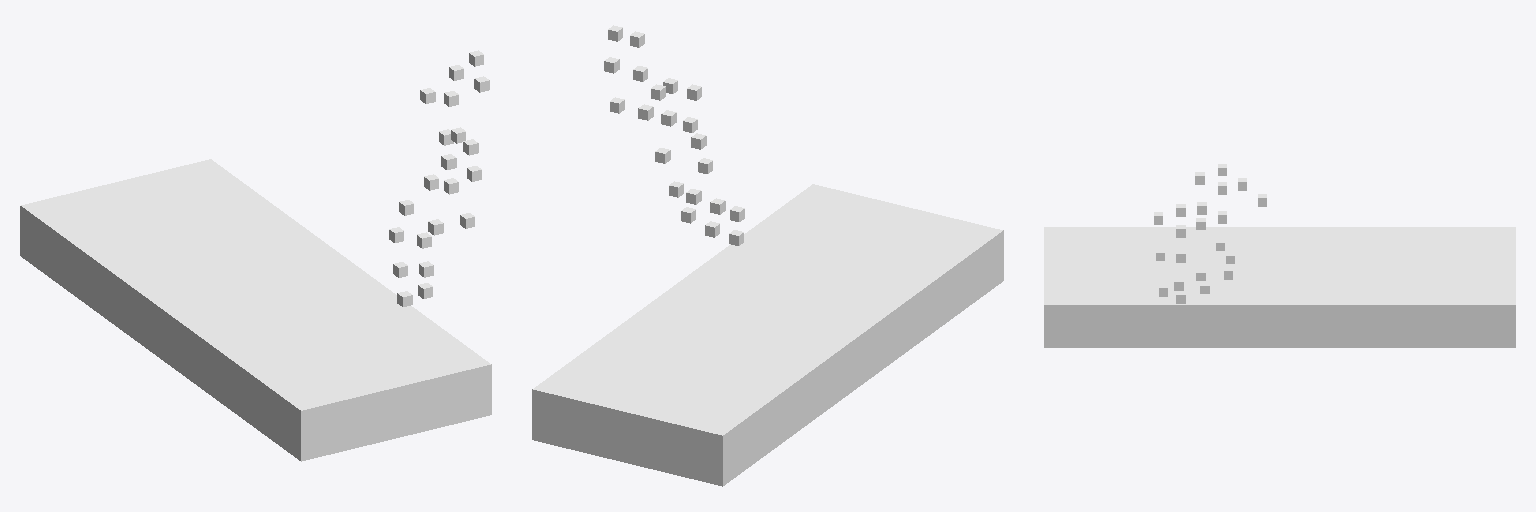
robot.urdf — scale:
<robot name="scale">
  <link name="base_link">
    <visual>
      <origin xyz="0 0 0" rpy="0 0 0" />
      <geometry>
        <mesh filename="package://hpp-rbprm-corba/meshes/scale.stl"/>
      </geometry>
      <material name="white">
        <color rgba="1 1 1 1"/>
      </material>
    </visual>
    <collision>
      <origin xyz="0 0 0" rpy="0 0 0" />
      <geometry>
        <mesh filename="package://hpp-rbprm-corba/meshes/scale.stl"/>
      </geometry>
    </collision>
  </link>
</robot>

--- Render facts (derived) ---
3 views of the same robot in one strip: view 1: azimuth 30°, elevation 25°; view 2: azimuth 150°, elevation 25°; view 3: azimuth 270°, elevation 25° (orthographic).
Robot: scale — 1 links, 0 joints (none); root link base_link; default pose: all joints at 0.
Visible links, largest first — view 1: base_link; view 2: base_link; view 3: base_link.
Link boxes in pixels (x1=…): base_link: x1=20, y1=50, x2=491, y2=461; base_link: x1=532, y1=25, x2=1003, y2=486; base_link: x1=1044, y1=164, x2=1515, y2=347.
Bounding box of the posed robot: 2.95 × 5 × 2.57 m (x, y, z).
1 mesh visuals loaded from 1 distinct referenced files (1 binary STL).